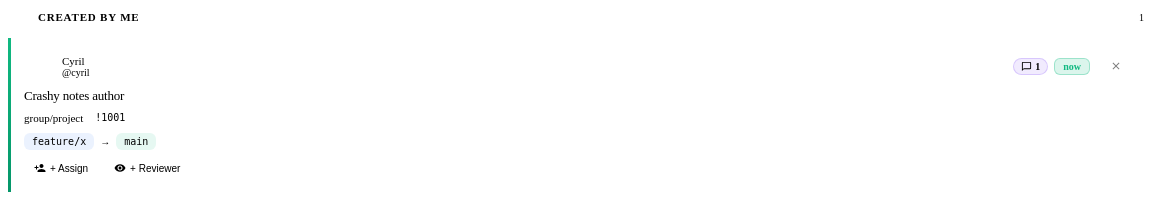
Test: MergeRequestsTab › renders "?" for a notes-panel comment author with an empty name instead of crashing (bug-lot fix #8)
Expected: the text "Crashy notes author" is shown, [24,88,124,103]
Click the element titled "Click to view comments" at (1031, 66), box [1013,58,1048,74]
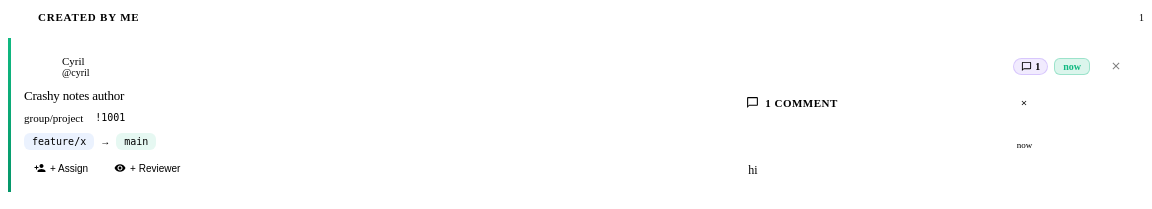
Expected: the text "hi" is shown, [748,162,758,176]
